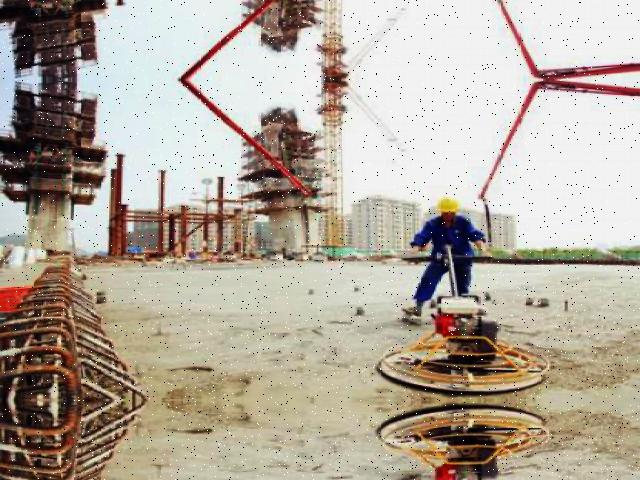Helmet: (432, 193, 460, 216)
